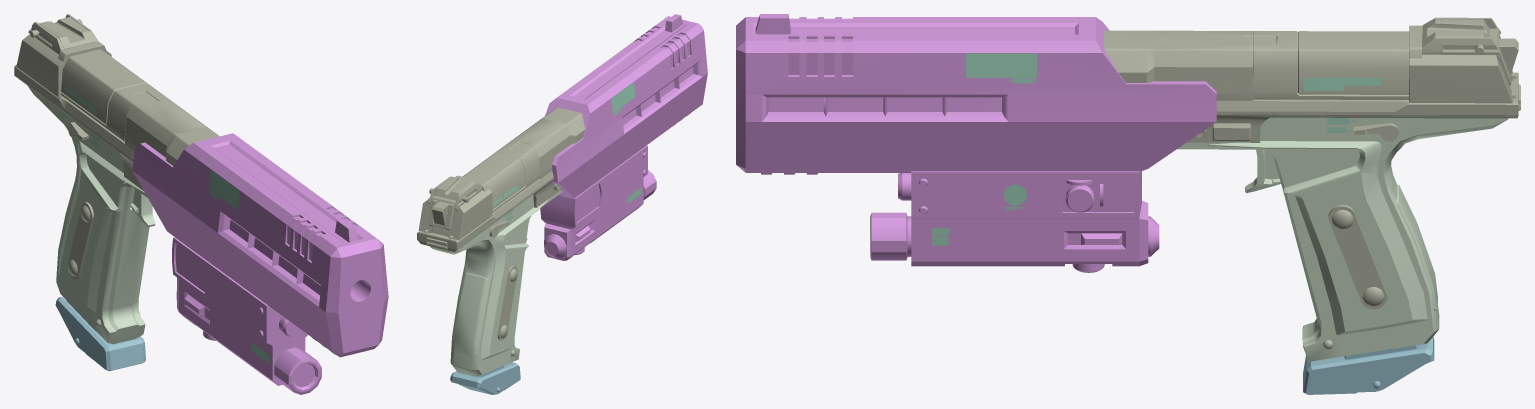
The model's file is M6C SOCOM.fbx.
3 views of the same model, side by side, from view 1: azimuth 30°, elevation 25°; view 2: azimuth 150°, elevation 25°; view 3: azimuth 270°, elevation 25° (orthographic). The views are drawn at different scales.
Parts seen in each view (by area): view 1: v_m6cs_onimag_compensator, v_m6cs_magnum_mag; view 2: v_m6cs_onimag_compensator, v_m6cs_magnum_mag; view 3: v_m6cs_onimag_compensator, v_m6cs_magnum_mag.
Boxes of the visible parts, x1,y1,x2,y2 form: v_m6cs_onimag_compensator: (14, 14, 388, 394); v_m6cs_magnum_mag: (55, 296, 145, 371); v_m6cs_onimag_compensator: (417, 14, 707, 376); v_m6cs_magnum_mag: (450, 362, 520, 394); v_m6cs_onimag_compensator: (736, 14, 1520, 361); v_m6cs_magnum_mag: (1303, 336, 1434, 394).
Size of the model in its own units: 131 by 607 by 1167.
